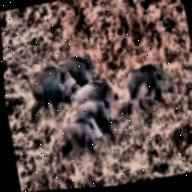boar: (18, 50, 82, 132), (118, 59, 179, 109), (71, 69, 126, 120), (60, 107, 108, 162), (54, 38, 103, 90)
